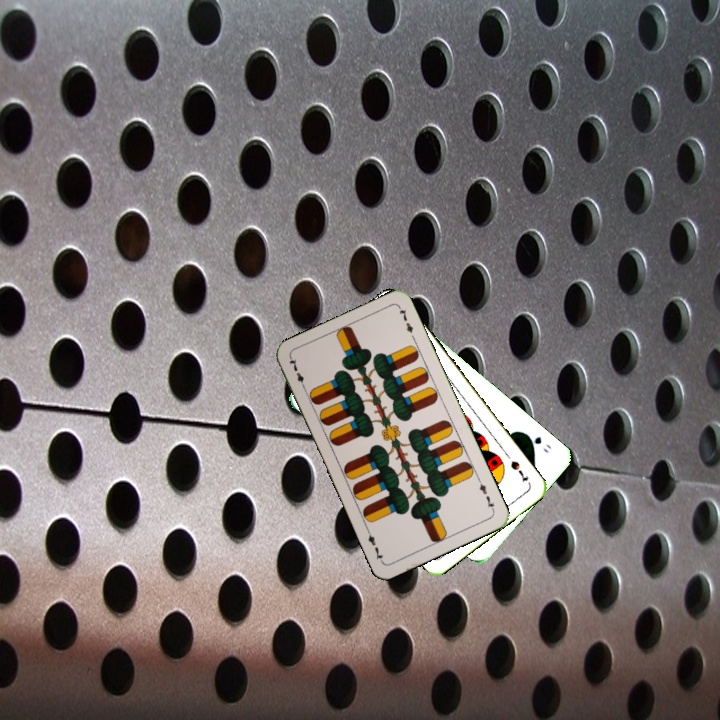E7: (285, 354, 308, 393), (474, 475, 497, 513)
GO: (522, 430, 554, 456)
S7: (506, 457, 531, 485)
